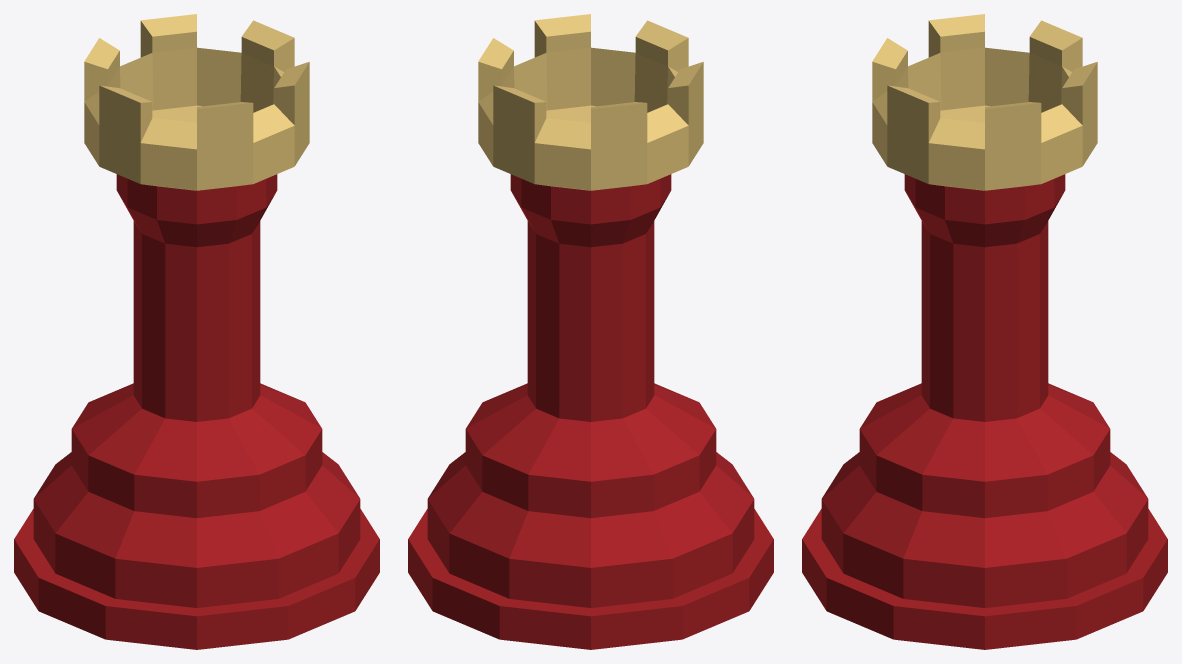
Rendered from lowpoly_r_b.glb.
3 views of the same model, side by side, from view 1: azimuth 30°, elevation 25°; view 2: azimuth 150°, elevation 25°; view 3: azimuth 270°, elevation 25° (orthographic).
Parts seen in each view (by area): view 1: x; view 2: x; view 3: x.
Part boxes in pixels (x1,y1,x2,y2): x: (14, 14, 379, 649); x: (408, 14, 773, 649); x: (802, 14, 1167, 649).
Size of the model in its own units: 0.5837 by 0.9 by 0.5837.
